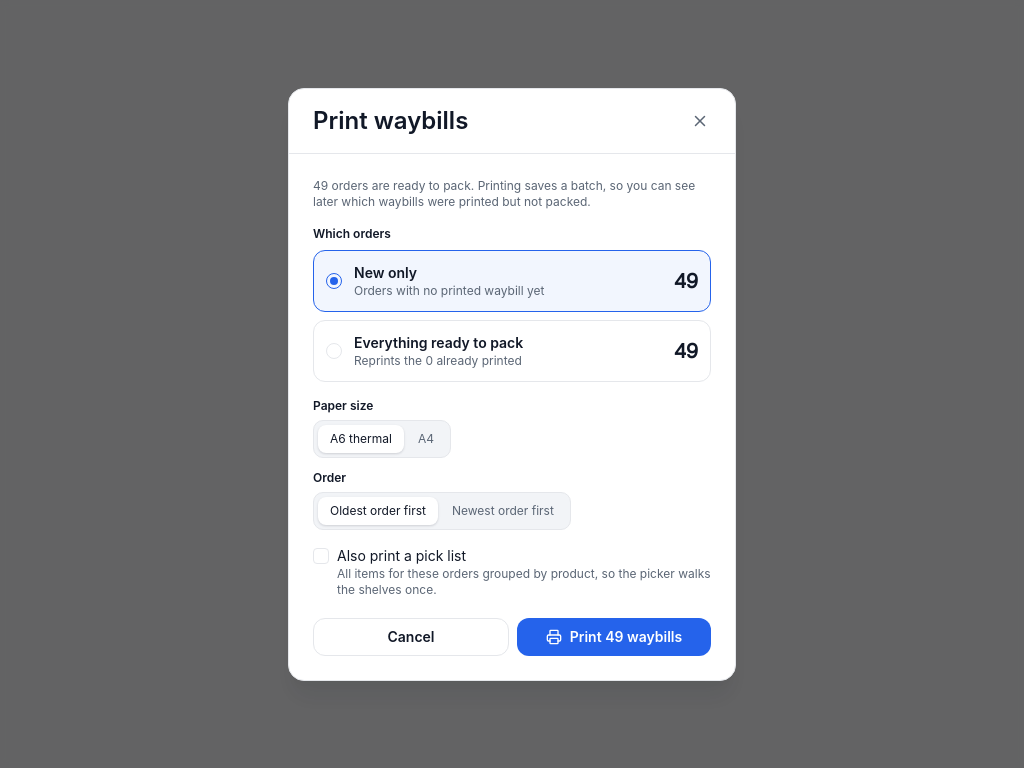
Test: print result — deleted in Bosta / rejected › batch result: printed / skipped summary, every skipped waybill number with its reason
This screenshot has width=1024, height=768.
Click the button "Print 49 waybills": (614, 636) [517,618,711,656]
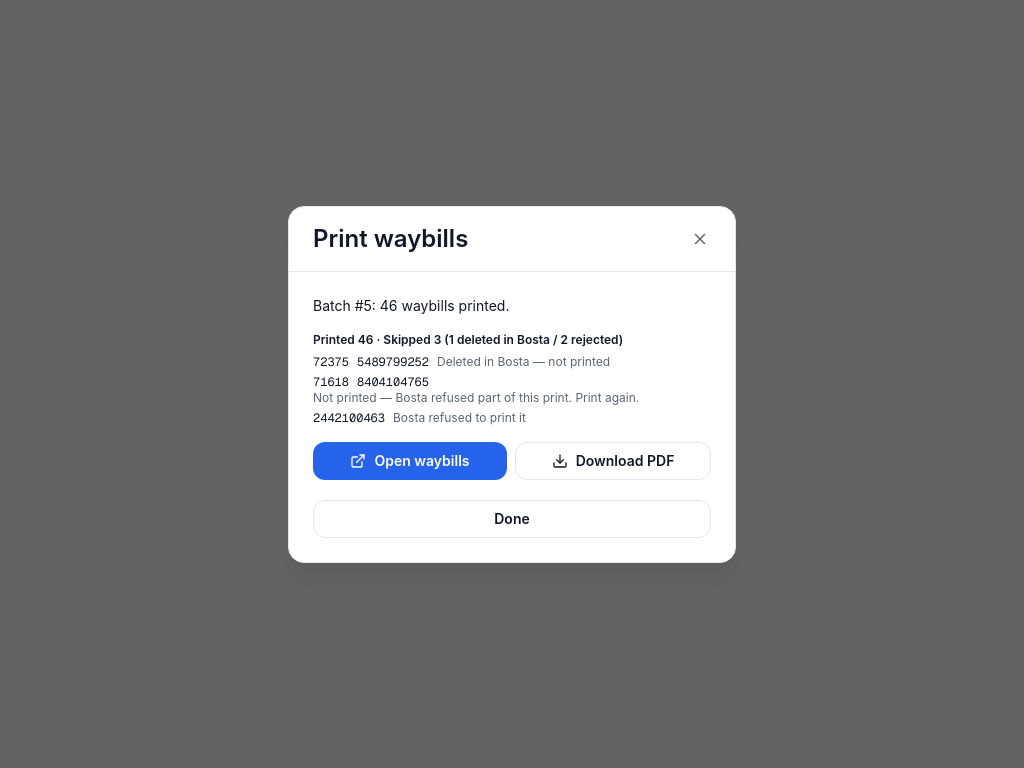
Expected: the text with test id "print-batch-summary" reads "Printed 46 · Skipped 3 (1 deleted in Bosta / 2 rejected)", [313,332,623,346]
Expected: the text "5489799252" is shown, [357,354,429,370]
Expected: the text "8404104765" is shown, [357,374,429,390]
